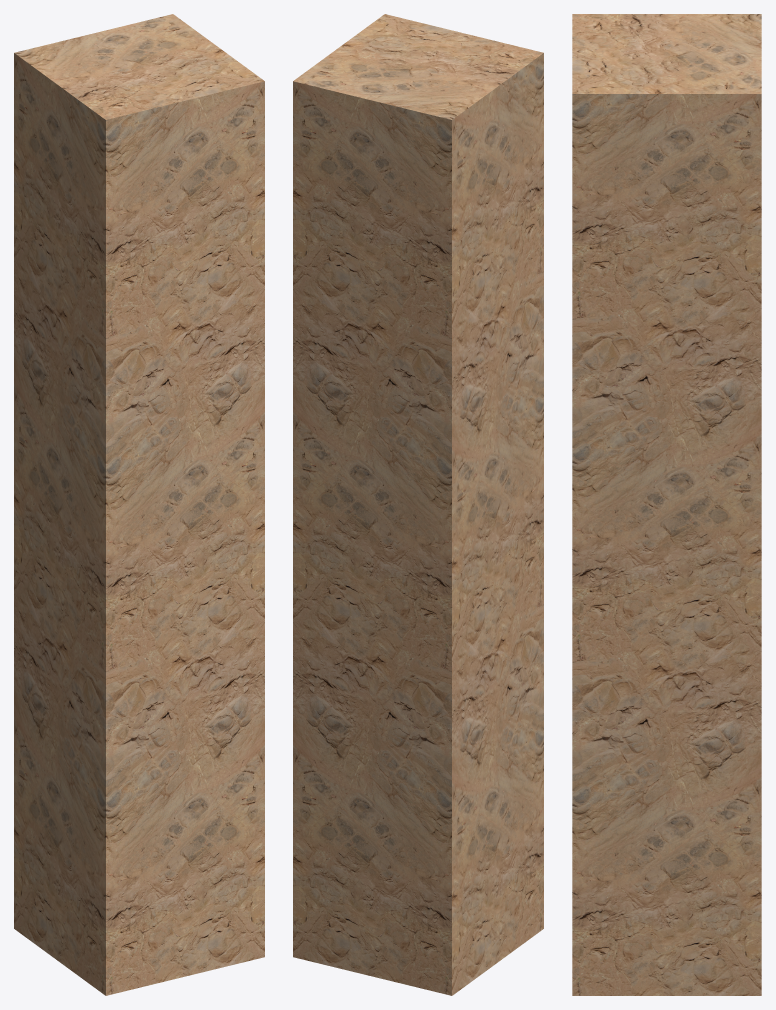
The model's file is column.obj.
The picture shows the model from 3 angles, left to right: view 1: azimuth 30°, elevation 25°; view 2: azimuth 150°, elevation 25°; view 3: azimuth 270°, elevation 25°; orthographic projection. The views are drawn at different scales.
Visible parts, largest first — view 1: Cube; view 2: Cube; view 3: Cube.
Part boxes in pixels (bbox=[...]): Cube: bbox=[14, 14, 264, 995]; Cube: bbox=[293, 14, 543, 995]; Cube: bbox=[572, 14, 761, 995].
Size of the model in its own units: 1 by 5.26 by 1.
